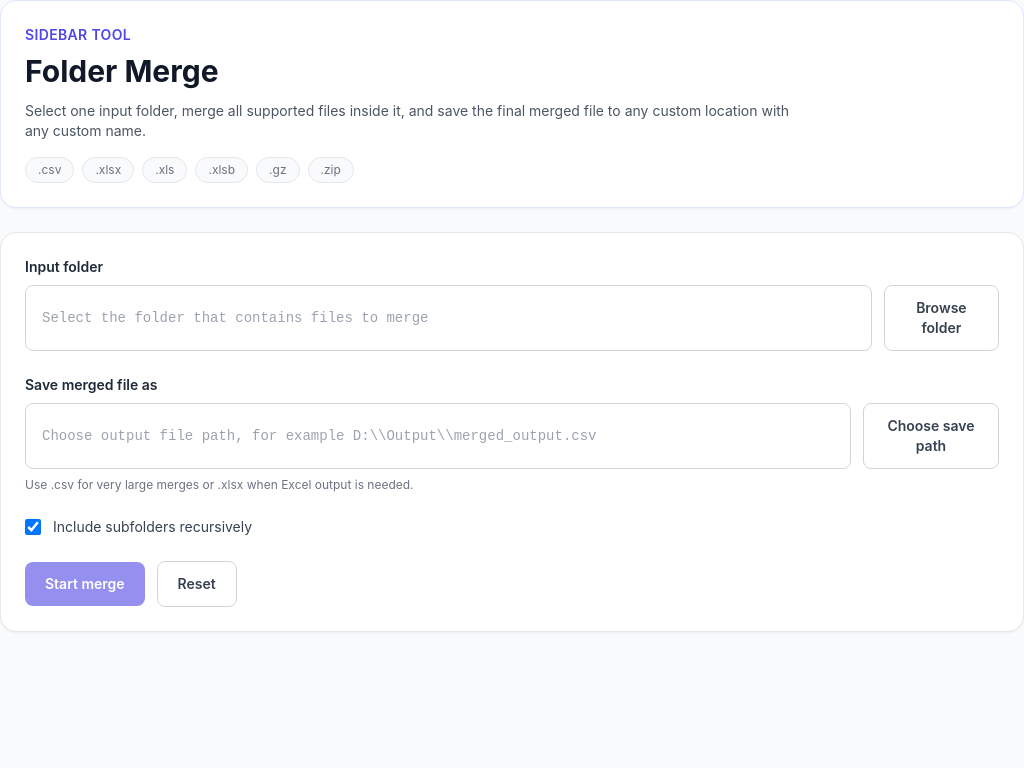
FolderMergePage › shows the returned API error when the merge fails
Type "D:\\Input\\Empty" into the field with placeholder "Select the folder that contains files to merge" at (448, 318), box [25, 285, 872, 351]
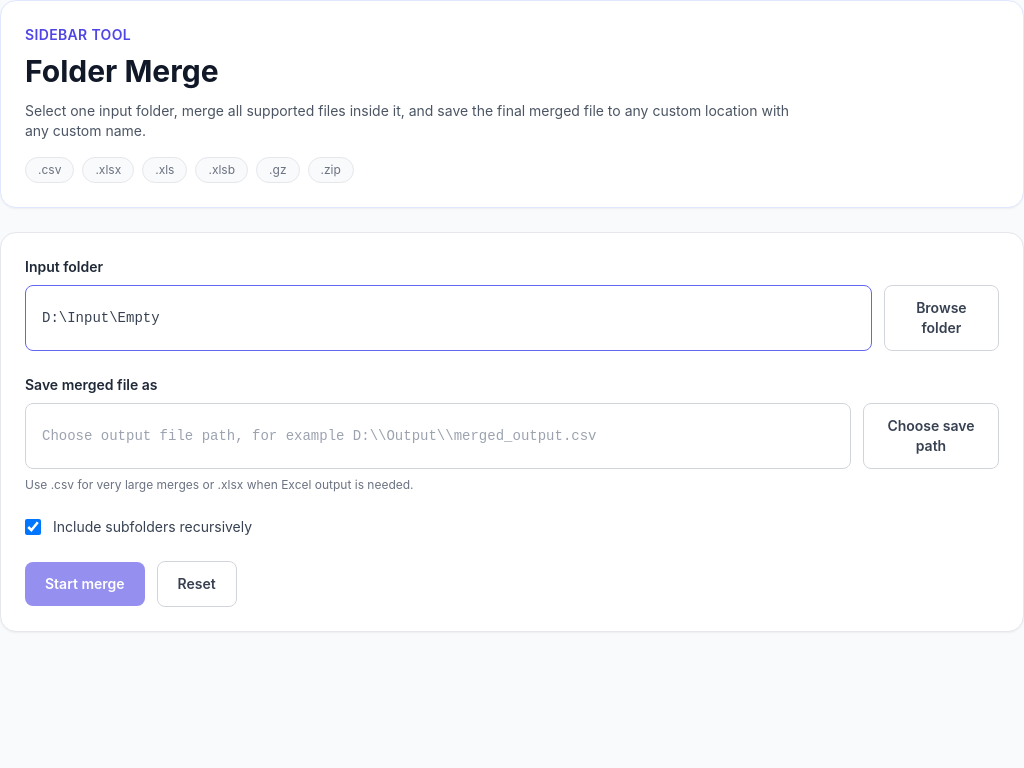
Type "D:\\Output\\merged_output.csv" into the 2nd field at (438, 436), box [25, 403, 851, 469]
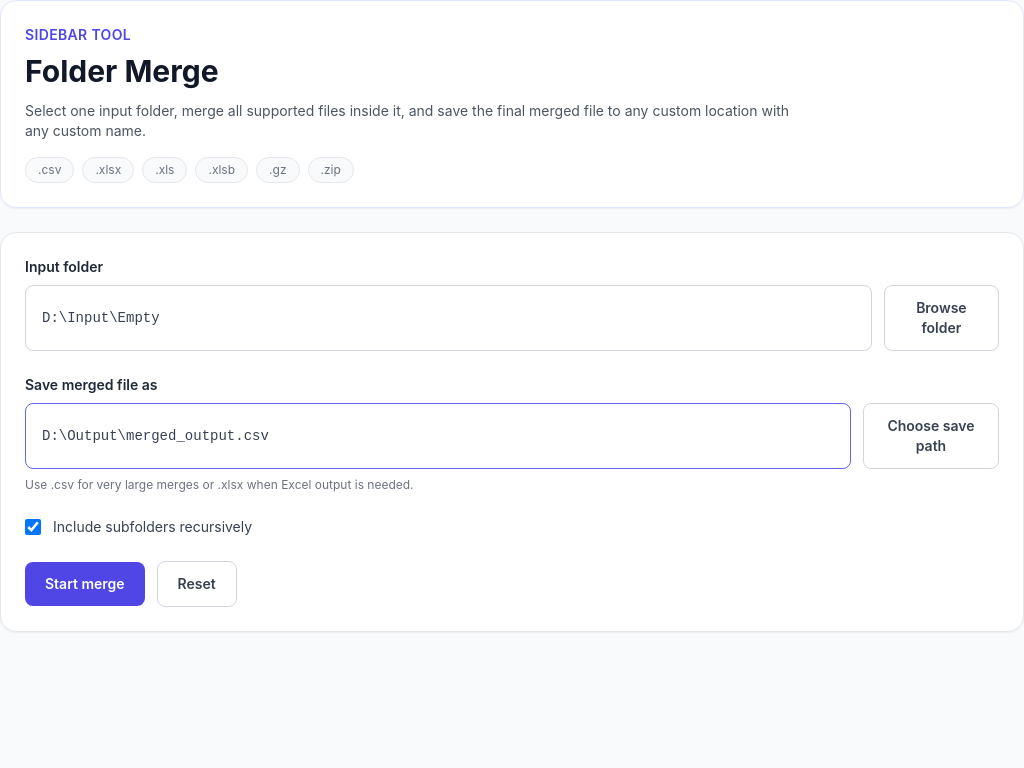
Click the button "Start merge" at (85, 584), box [25, 562, 145, 606]
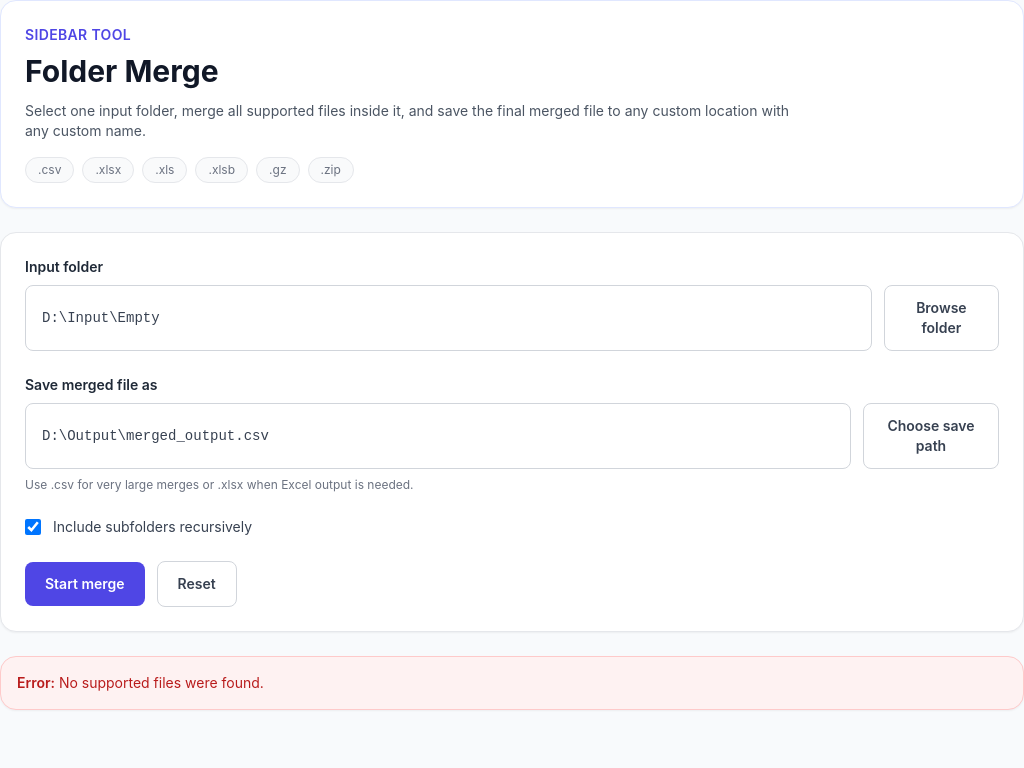
expect the text "Error: No supported files were found." is shown: met, box [0, 656, 1023, 710]
